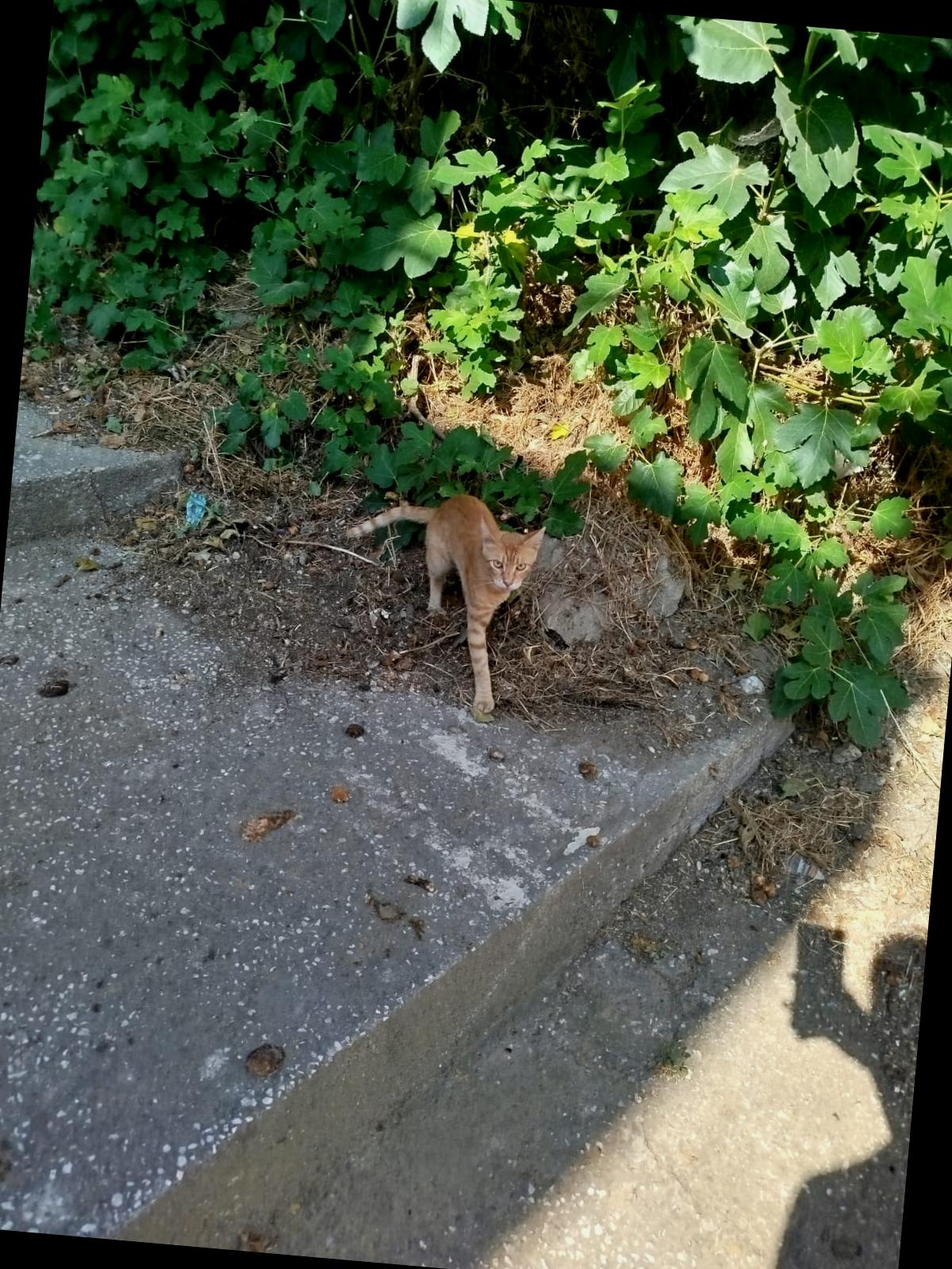macka: (334, 487, 546, 717)
